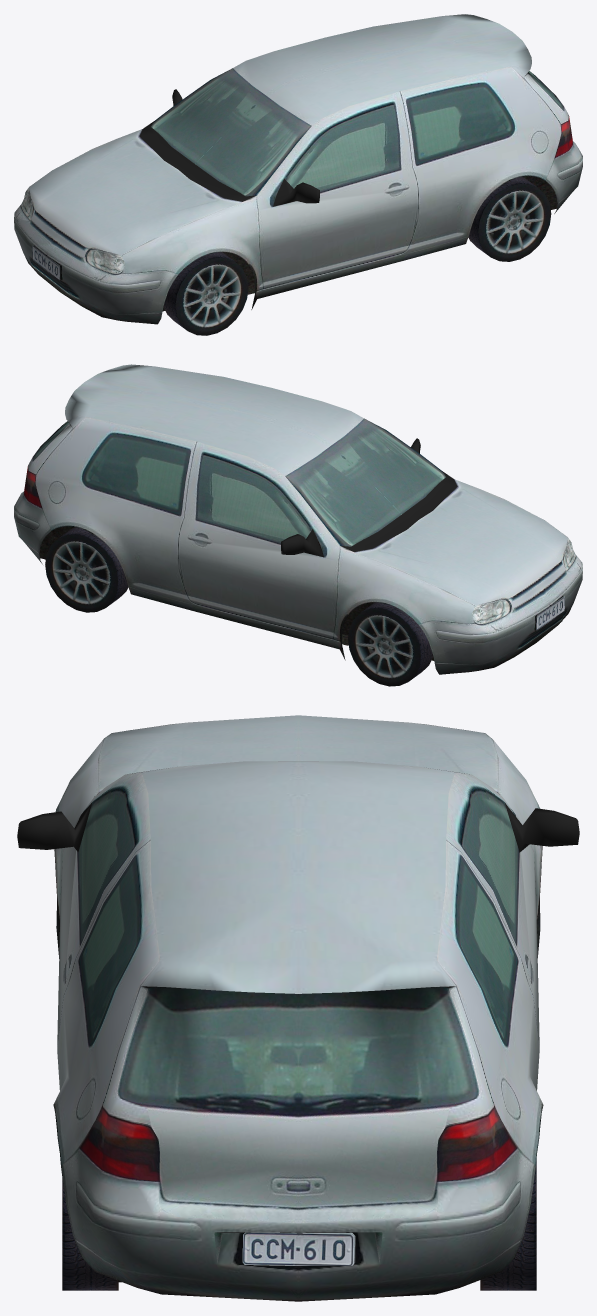
3 views of the same model, one above another, from view 1: azimuth 30°, elevation 25°; view 2: azimuth 150°, elevation 25°; view 3: azimuth 270°, elevation 25° (orthographic). The views are drawn at different scales.
Visible parts, largest first — view 1: 07body, 07tyres, 07tyresurf, 07fill, 07plates; view 2: 07body, 07tyres, 07tyresurf, 07fill, 07plates; view 3: 07body, 07tyresurf, 07plates.
Part boxes in pixels (x1=…): 07body: x1=14, y1=14, x2=582, y2=324; 07tyres: x1=175, y1=184, x2=551, y2=335; 07tyresurf: x1=163, y1=177, x2=537, y2=330; 07fill: x1=125, y1=176, x2=557, y2=320; 07plates: x1=32, y1=245, x2=60, y2=280; 07body: x1=14, y1=364, x2=582, y2=674; 07tyres: x1=45, y1=534, x2=420, y2=686; 07tyresurf: x1=58, y1=527, x2=433, y2=681; 07fill: x1=39, y1=526, x2=434, y2=660; 07plates: x1=536, y1=596, x2=564, y2=629; 07body: x1=17, y1=715, x2=579, y2=1301; 07tyresurf: x1=62, y1=1160, x2=536, y2=1290; 07plates: x1=242, y1=1232, x2=355, y2=1265.
Bounding box in the file's own units: 4.16 × 1.42 × 2.
20 materials, 19 textured.
